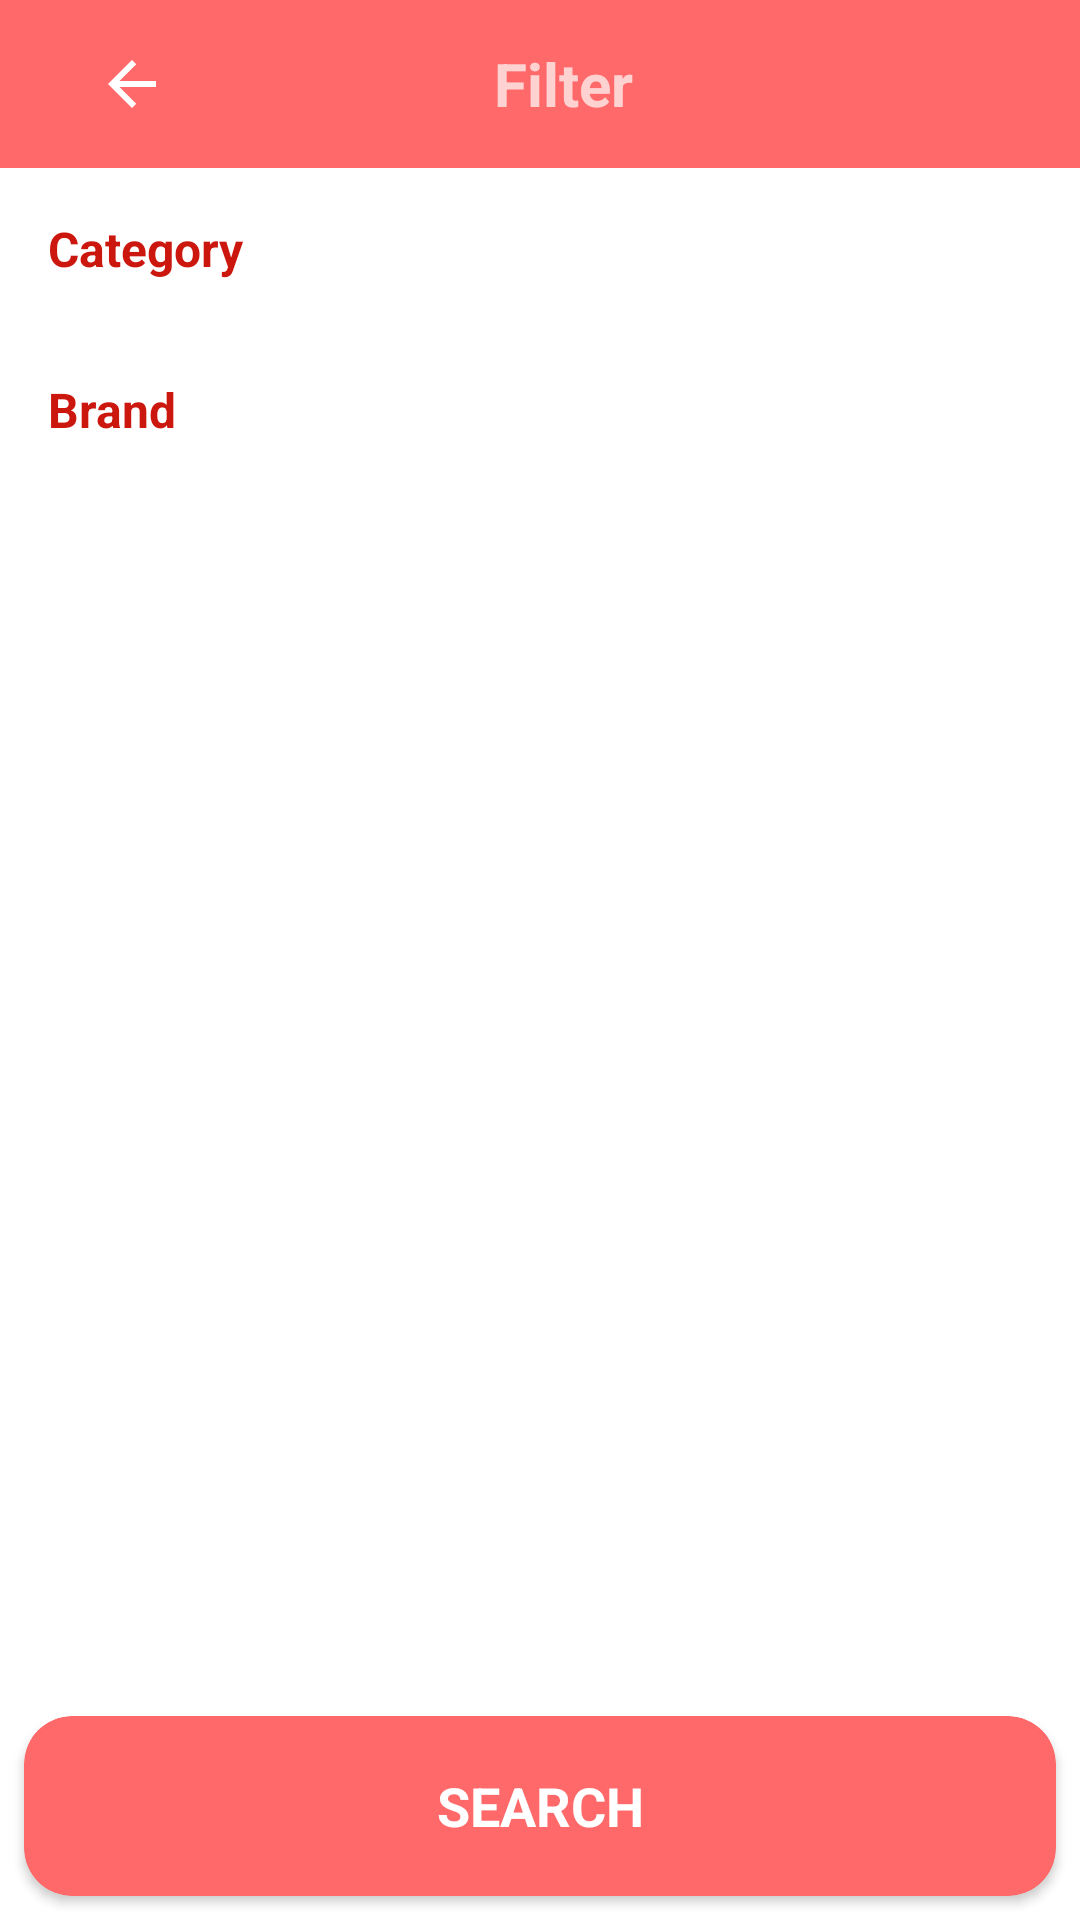

Screen size 1080*1920. Icon name, then its center in pixels as [x,y]:
back: [132,84]
